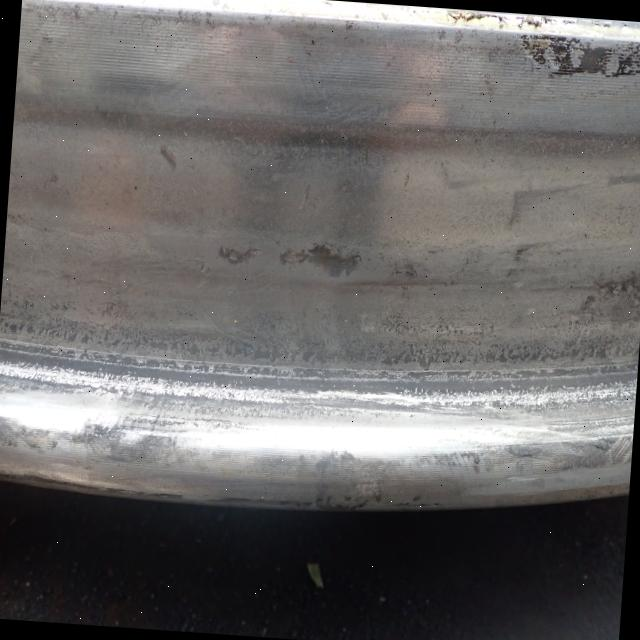Peeling: (280, 240, 366, 284), (216, 242, 263, 270), (580, 43, 615, 73), (550, 42, 576, 75), (617, 47, 640, 82)
